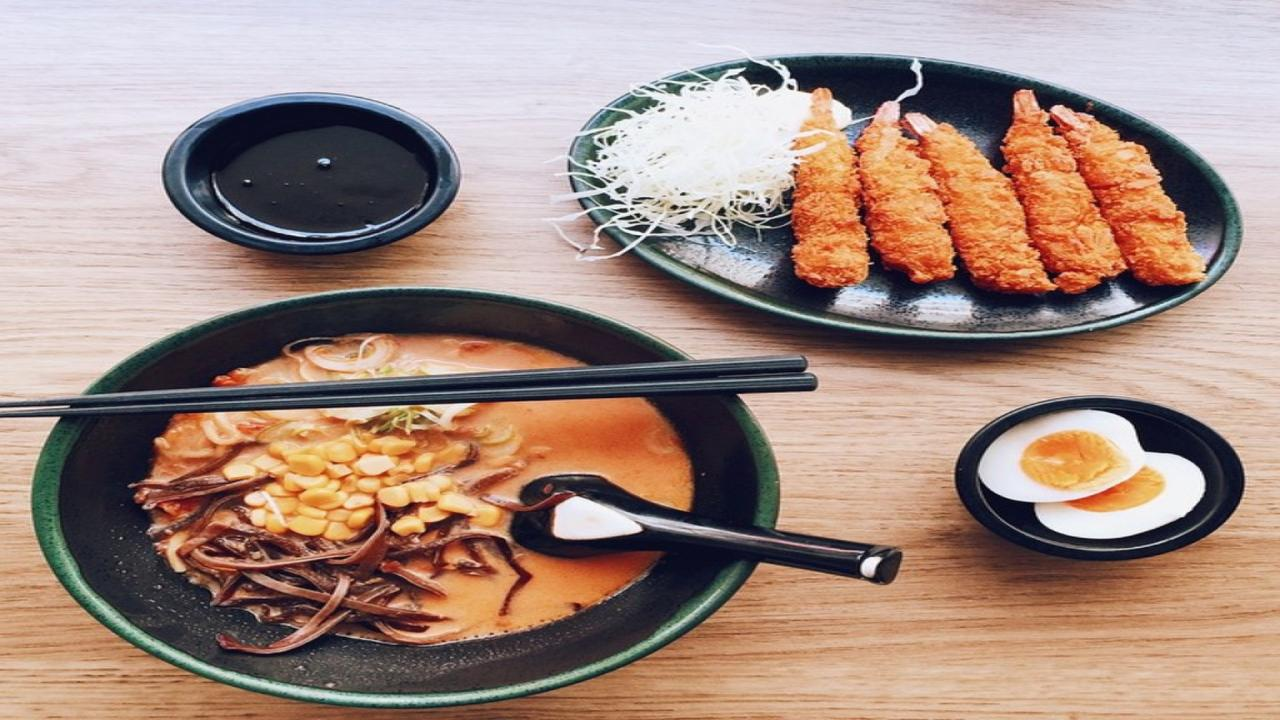chopstick: (0, 351, 807, 420)
